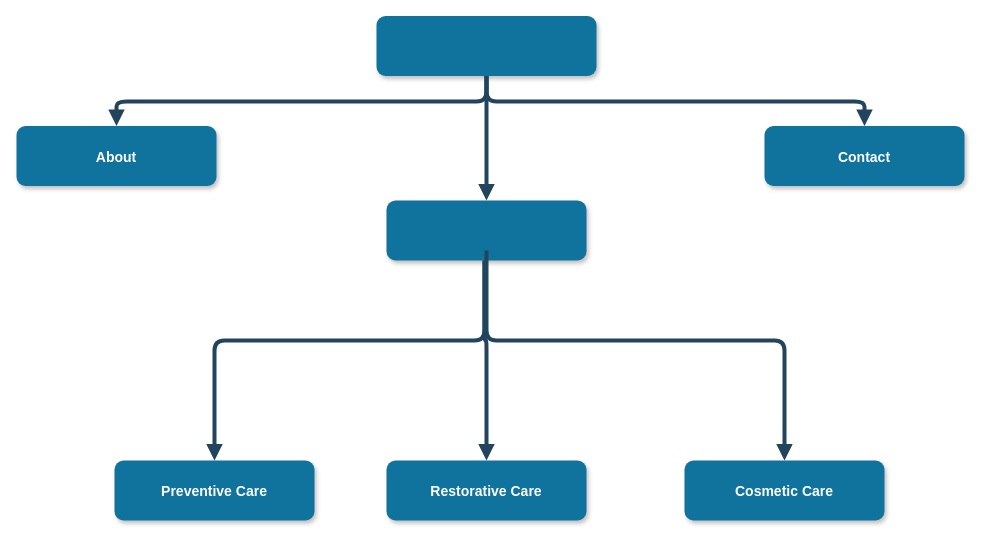
The diagram is 981 pixels wide and 537 high, and some of its shapes have lost their labels. Here are the shapes that lost their labels. From the top down, the centre of each, then its label:
point 487,47: Home
point 487,231: Services
